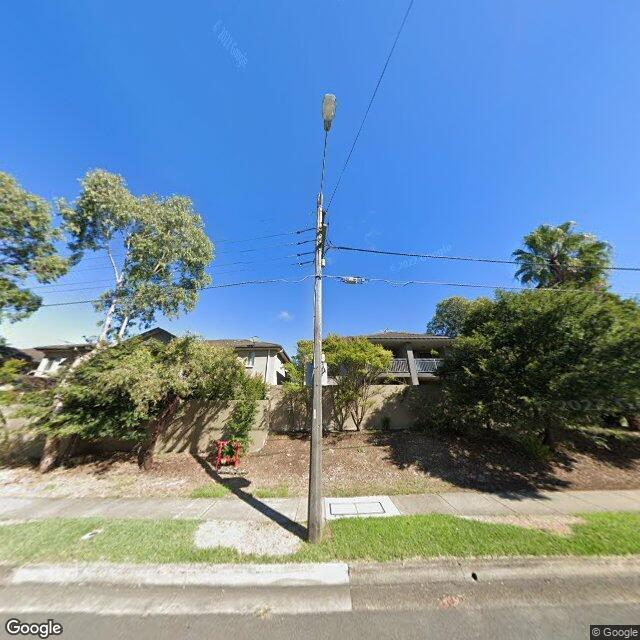crossarm: (322, 224, 326, 267)
streetlight: (318, 94, 336, 206)
timber-pole: (307, 195, 324, 544)
